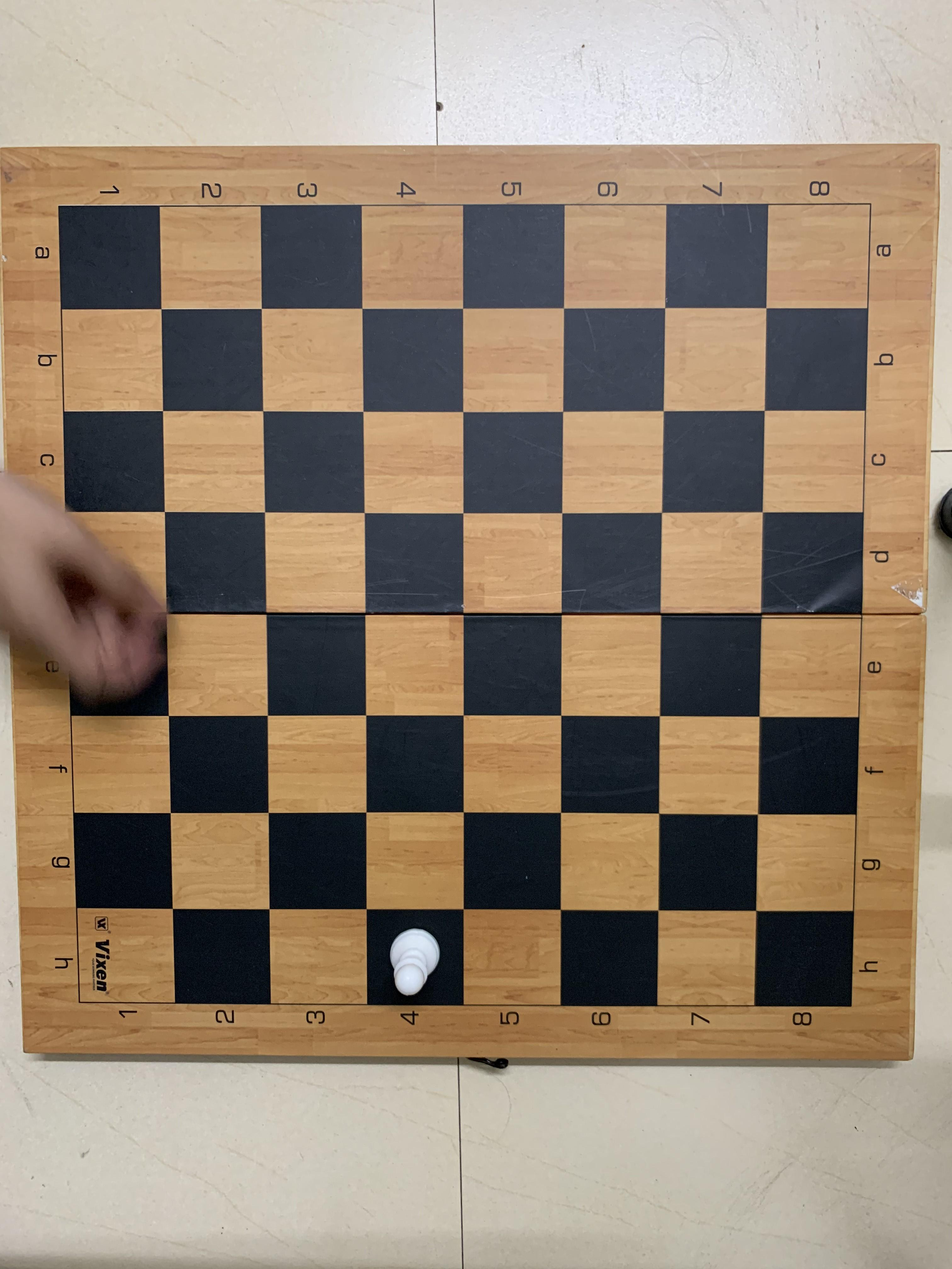white_pawn: (371, 910, 449, 998)
